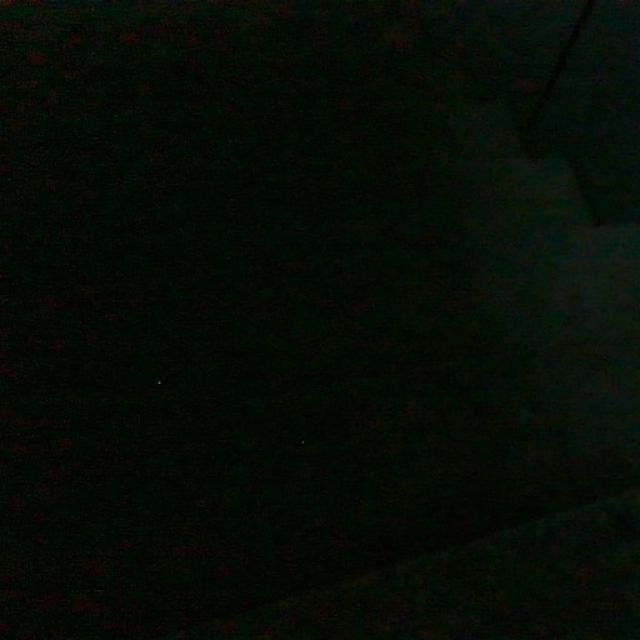stair: (19, 52, 620, 576)
